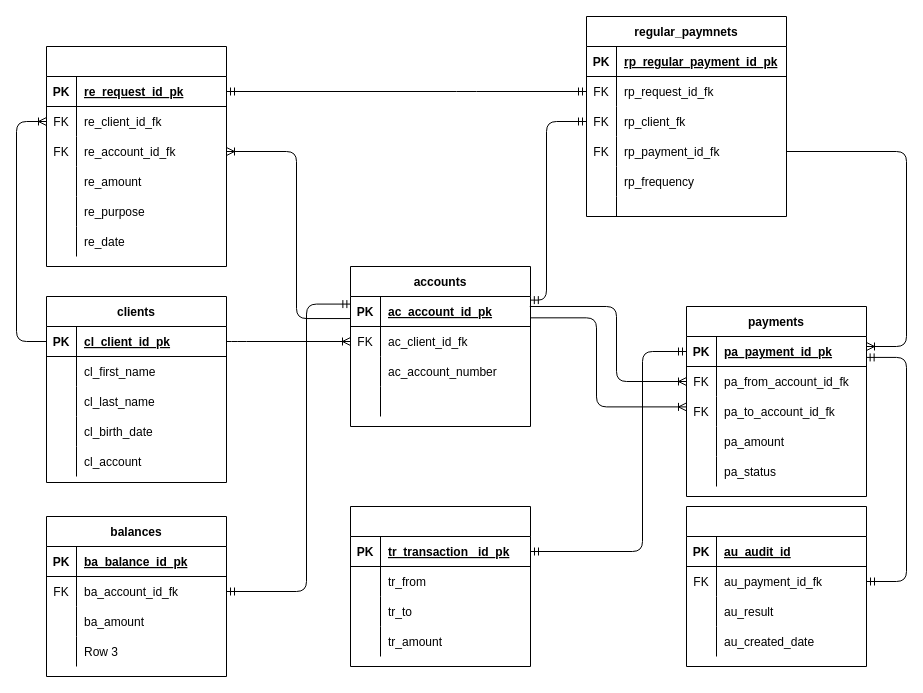
Image size: 923x693. Some labels were removed from this diagram. Each missing label, with the box of its shape:
audits: (686, 506, 866, 666)
requests: (46, 46, 226, 266)
transactions: (350, 506, 530, 666)
